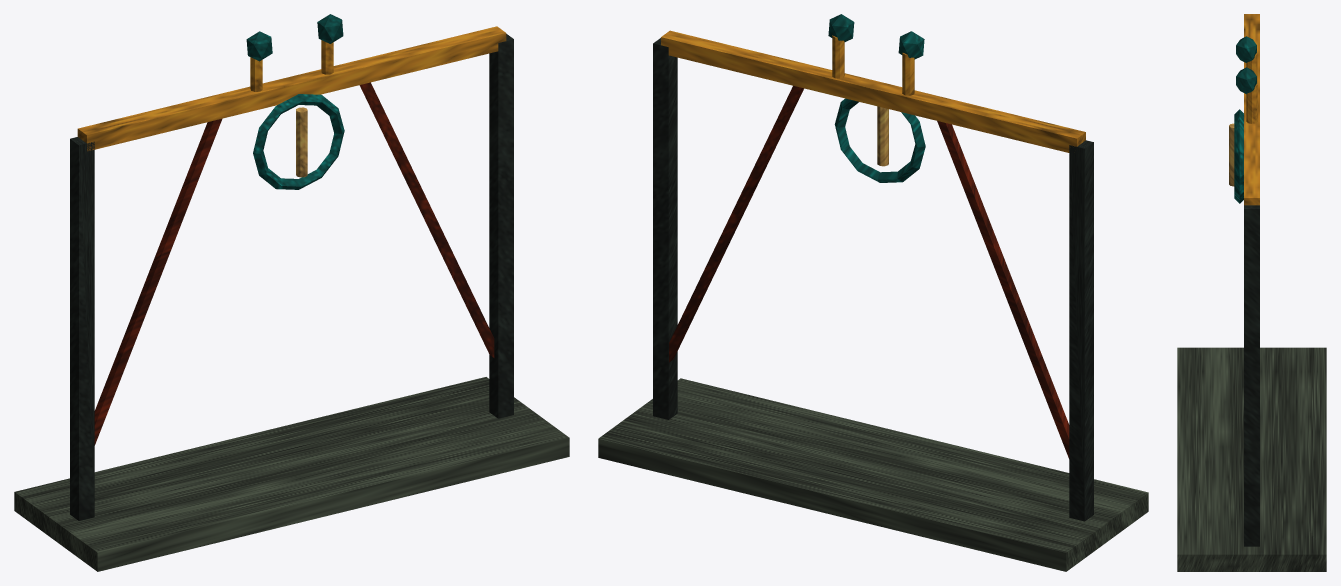
File: rush-relay-r2-frame.glb
The picture shows the model from 3 angles, left to right: view 1: azimuth 30°, elevation 25°; view 2: azimuth 150°, elevation 25°; view 3: azimuth 270°, elevation 25°; orthographic projection. The views are drawn at different scales.
Parts seen in each view (by area): view 1: rush-relay-r2-frame; view 2: rush-relay-r2-frame; view 3: rush-relay-r2-frame.
Part boxes in pixels (x1,y1,x2,y2): rush-relay-r2-frame: [14, 14, 569, 571]; rush-relay-r2-frame: [598, 14, 1148, 571]; rush-relay-r2-frame: [1177, 14, 1326, 571].
Bounding box in the file's own units: 7.2 × 6.76 × 2.2.
Materials: 1 (1 with a texture image).
